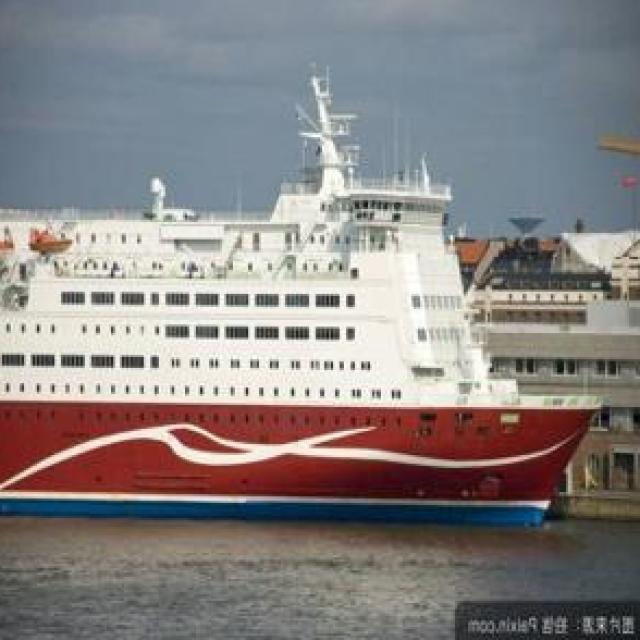passenger ship: (0, 161, 599, 514)
